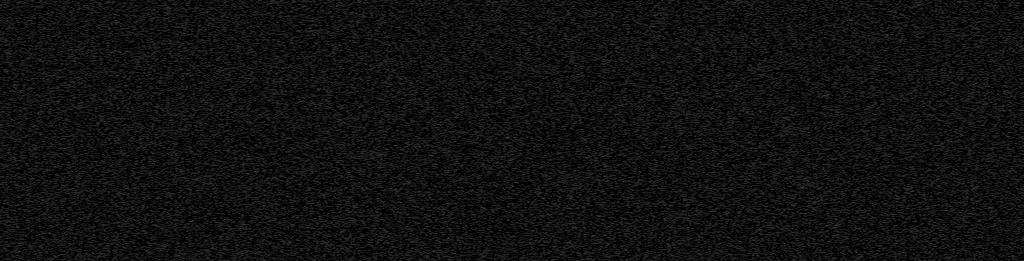wv_am: (909, 0, 915, 261)
wv_cw: (831, 0, 836, 261)
wv_lsb: (929, 47, 935, 213), (930, 1, 935, 31), (930, 242, 935, 261), (929, 32, 935, 46), (930, 214, 935, 229), (930, 230, 935, 239)
wv_wbfm: (795, 0, 822, 236), (796, 238, 824, 261)
